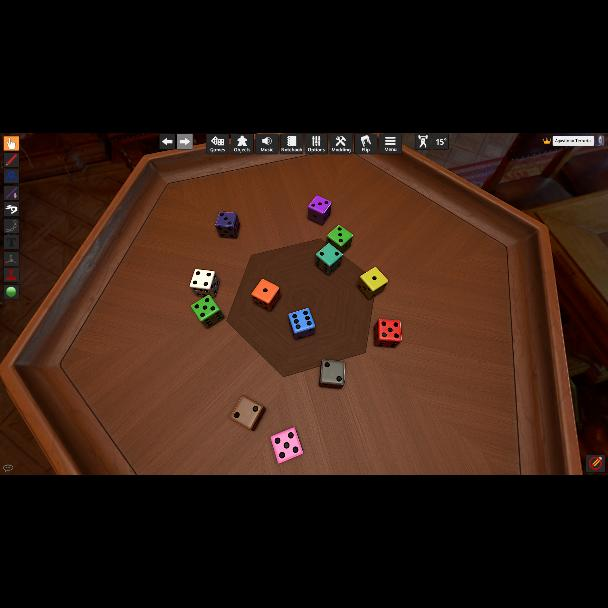d6: (230, 395, 266, 430), (270, 426, 304, 462), (192, 294, 224, 328), (358, 266, 388, 300), (250, 280, 280, 313), (372, 318, 400, 348), (190, 269, 218, 299), (316, 244, 342, 276), (288, 308, 314, 340), (319, 360, 345, 389), (326, 226, 352, 254), (307, 196, 331, 226), (215, 212, 239, 240)
